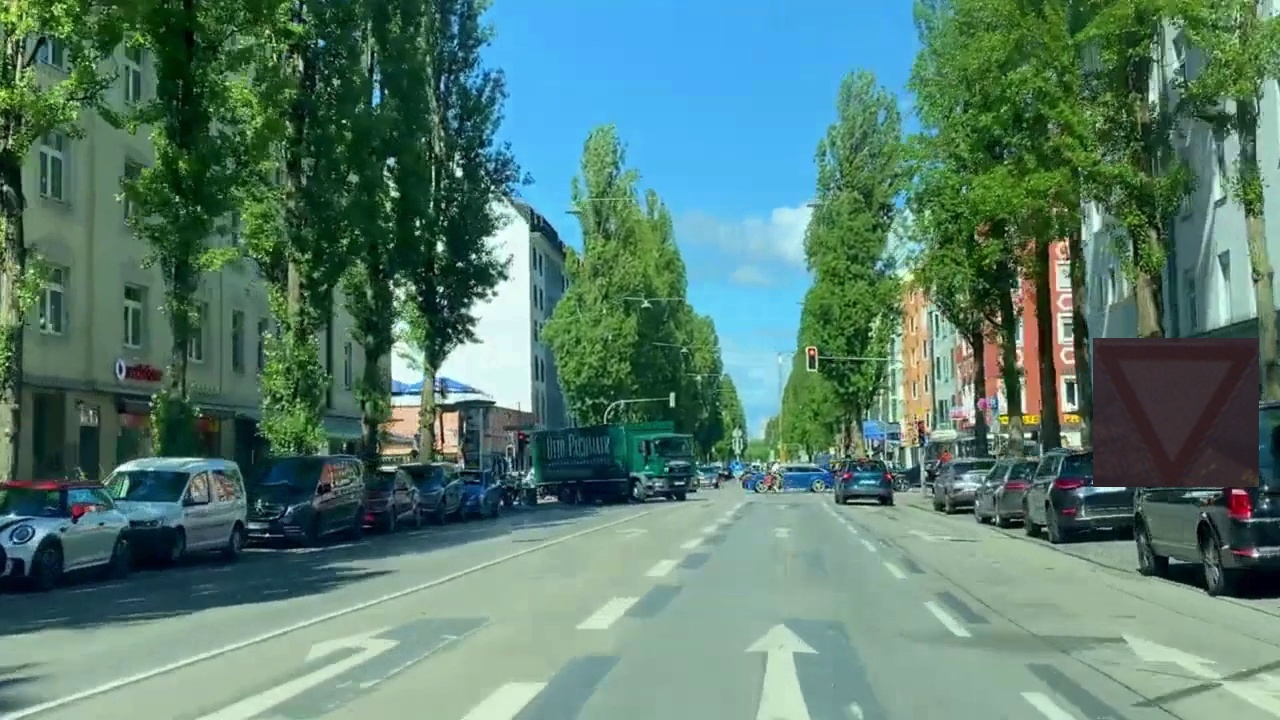Yield: (1093, 338, 1259, 487)
